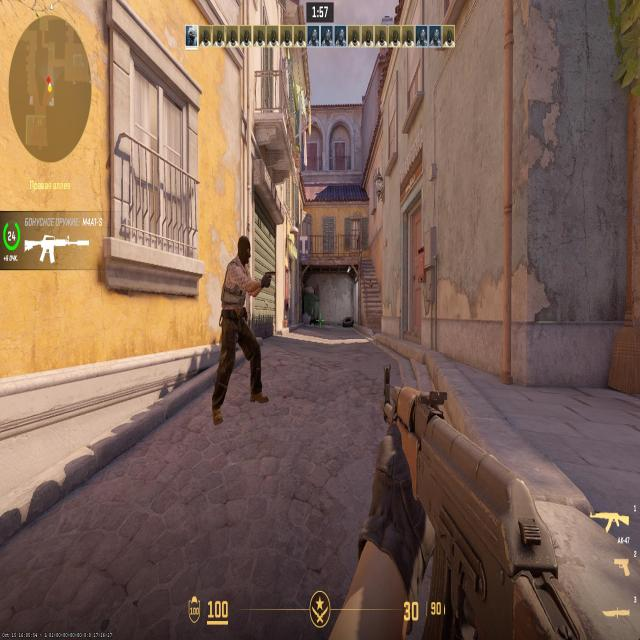T: (230, 240, 256, 402)
T_heat: (239, 240, 251, 262)
